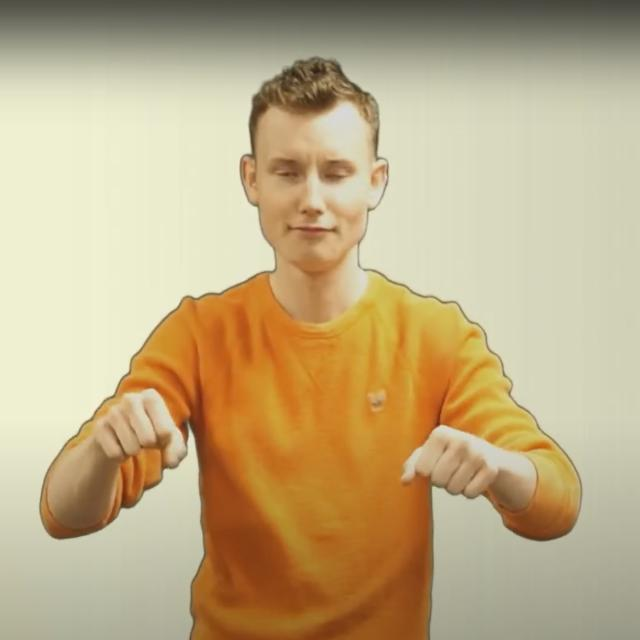can: (94, 387, 499, 499)
